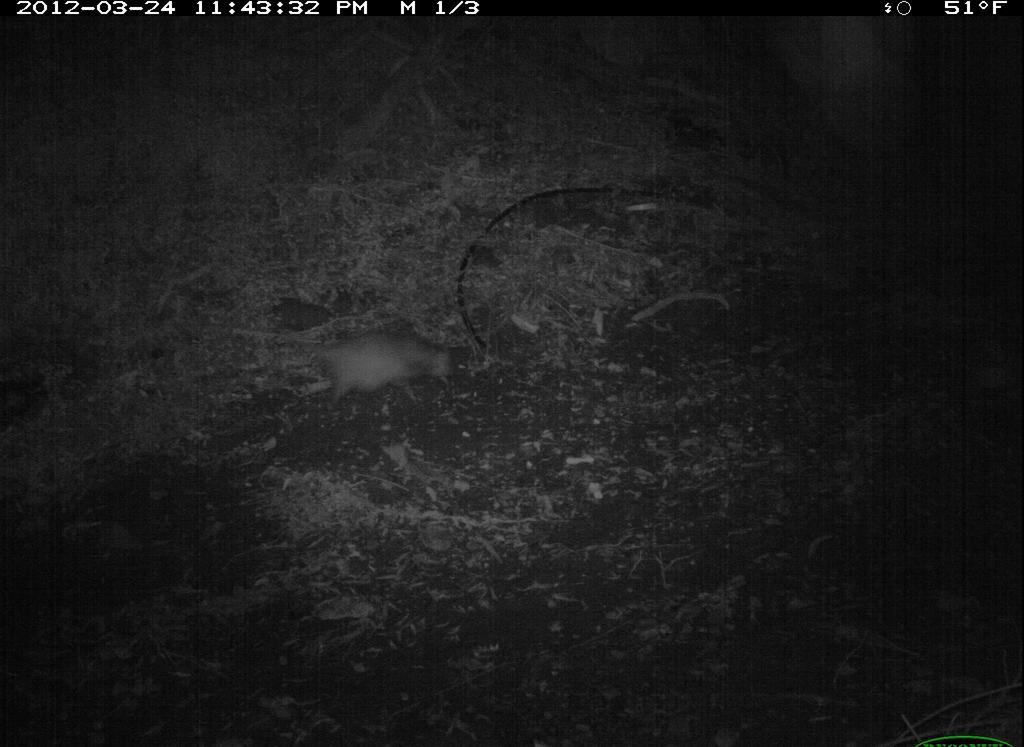opossum: (273, 326, 465, 418)
